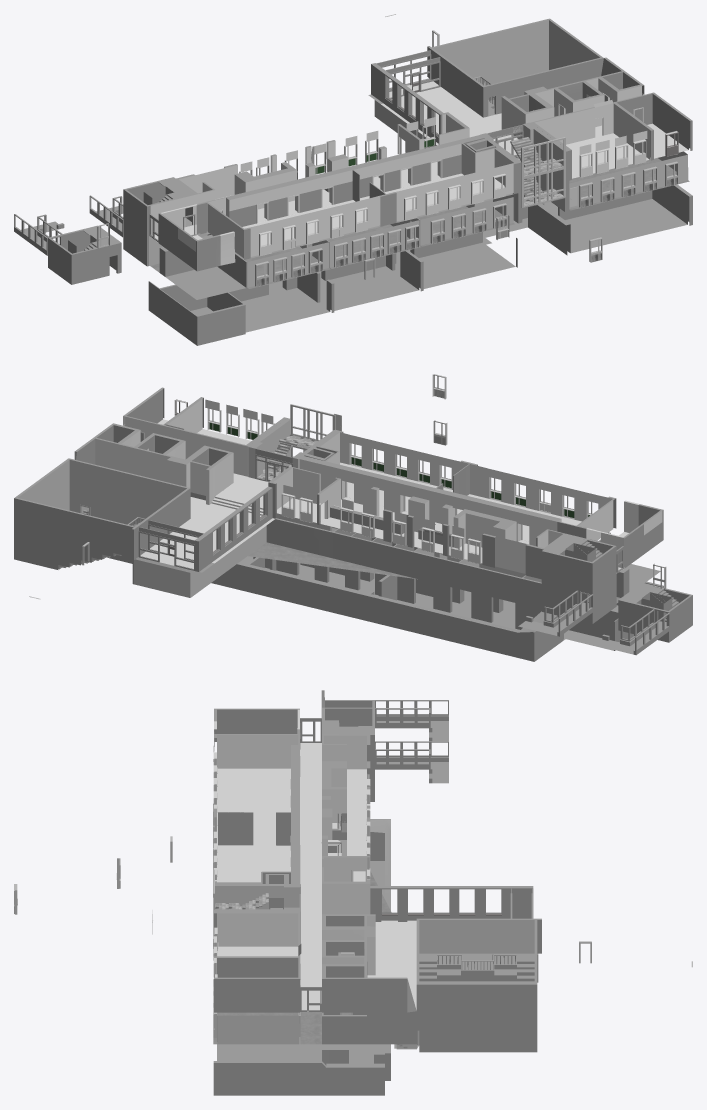
The model's file is vanadis cancer edition.fbx.
3 renders of one model, top to bottom at view 1: azimuth 30°, elevation 25°; view 2: azimuth 150°, elevation 25°; view 3: azimuth 270°, elevation 25°, orthographic. The views are drawn at different scales.
Parts seen in each view (by area): view 1: VÅNING_6_v6, v5, pPlane3, polySurface148, staircasev6, staircasev5; view 2: VÅNING_6_v6, v5, pPlane3, polySurface148, staircasev6, pCube50; view 3: VÅNING_6_v6, v5, pPlane3, staircasev6, polySurface148.
Part boxes in pixels (x1=…): VÅNING_6_v6: x1=123, y1=50, x2=692, y2=271; v5: x1=89, y1=78, x2=692, y2=345; pPlane3: x1=427, y1=18, x2=603, y2=117; polySurface148: x1=14, y1=214, x2=121, y2=284; staircasev6: x1=465, y1=122, x2=569, y2=192; staircasev5: x1=511, y1=167, x2=569, y2=223; VÅNING_6_v6: x1=74, y1=387, x2=663, y2=593; v5: x1=82, y1=492, x2=663, y2=661; pPlane3: x1=14, y1=458, x2=190, y2=569; polySurface148: x1=595, y1=582, x2=692, y2=655; staircasev6: x1=248, y1=404, x2=338, y2=479; pCube50: x1=255, y1=448, x2=292, y2=481; VÅNING_6_v6: x1=213, y1=707, x2=533, y2=1016; v5: x1=213, y1=741, x2=538, y2=1095; pPlane3: x1=394, y1=918, x2=541, y2=1052; staircasev6: x1=213, y1=869, x2=300, y2=943; polySurface148: x1=325, y1=700, x2=448, y2=741.
Bounding box in the file's own units: 64.4 × 12.69 × 58.85.
